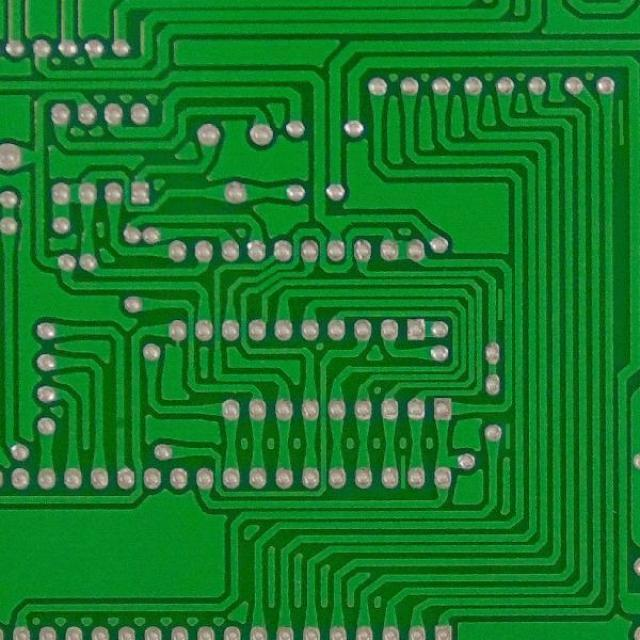Spurious_Cooper: (614, 95, 630, 148), (397, 452, 408, 492), (502, 418, 514, 452), (496, 285, 506, 323)
